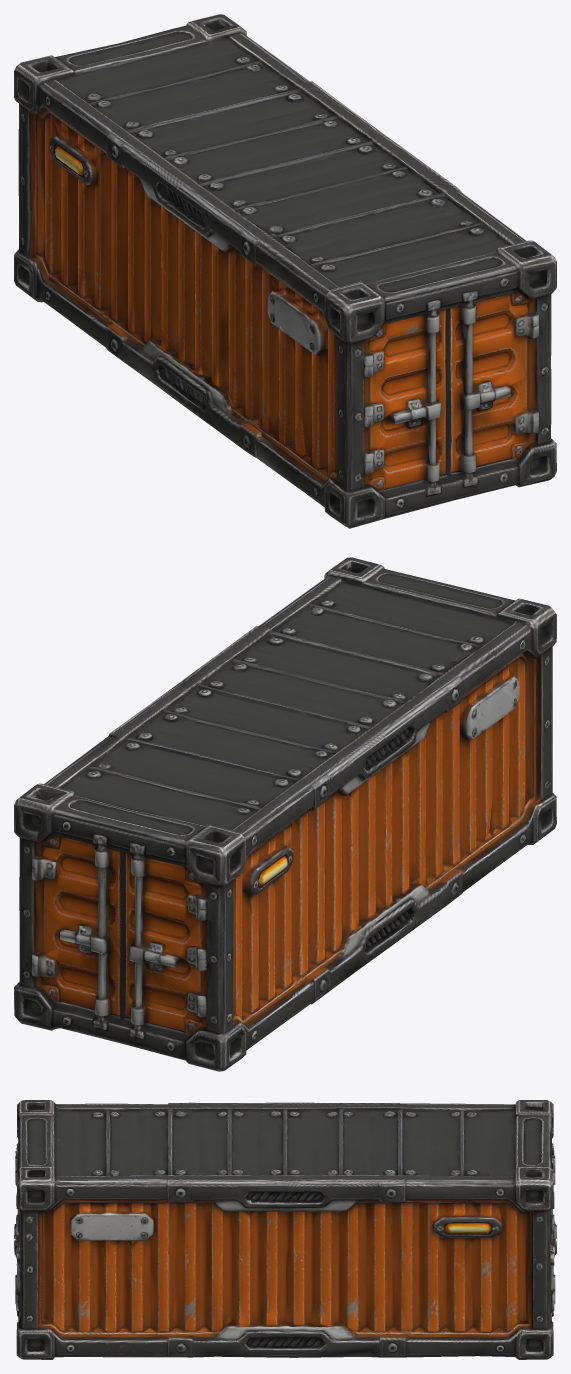
Rendered from prop_container.glb.
The picture shows the model from 3 angles, top to bottom: view 1: azimuth 30°, elevation 25°; view 2: azimuth 150°, elevation 25°; view 3: azimuth 270°, elevation 25°; orthographic projection. The views are drawn at different scales.
Parts seen in each view (by area): view 1: tripo_node_4c646b34-b959-452f-b0b6-9252d045e2be; view 2: tripo_node_4c646b34-b959-452f-b0b6-9252d045e2be; view 3: tripo_node_4c646b34-b959-452f-b0b6-9252d045e2be.
Part boxes in pixels (x1,y1,x2,y2): tripo_node_4c646b34-b959-452f-b0b6-9252d045e2be: (14,14,556,528); tripo_node_4c646b34-b959-452f-b0b6-9252d045e2be: (14,557,556,1071); tripo_node_4c646b34-b959-452f-b0b6-9252d045e2be: (14,1100,556,1359).
Bounding box in the file's own units: 0.3555 × 0.3602 × 0.9815.
Materials: 1 (1 with a texture image).
